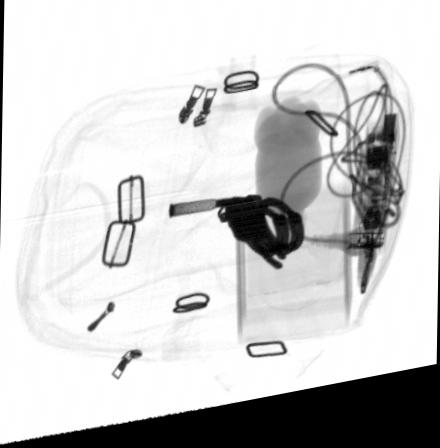Bullet: (168, 207, 252, 224)
HandCuffs: (216, 203, 306, 282)
